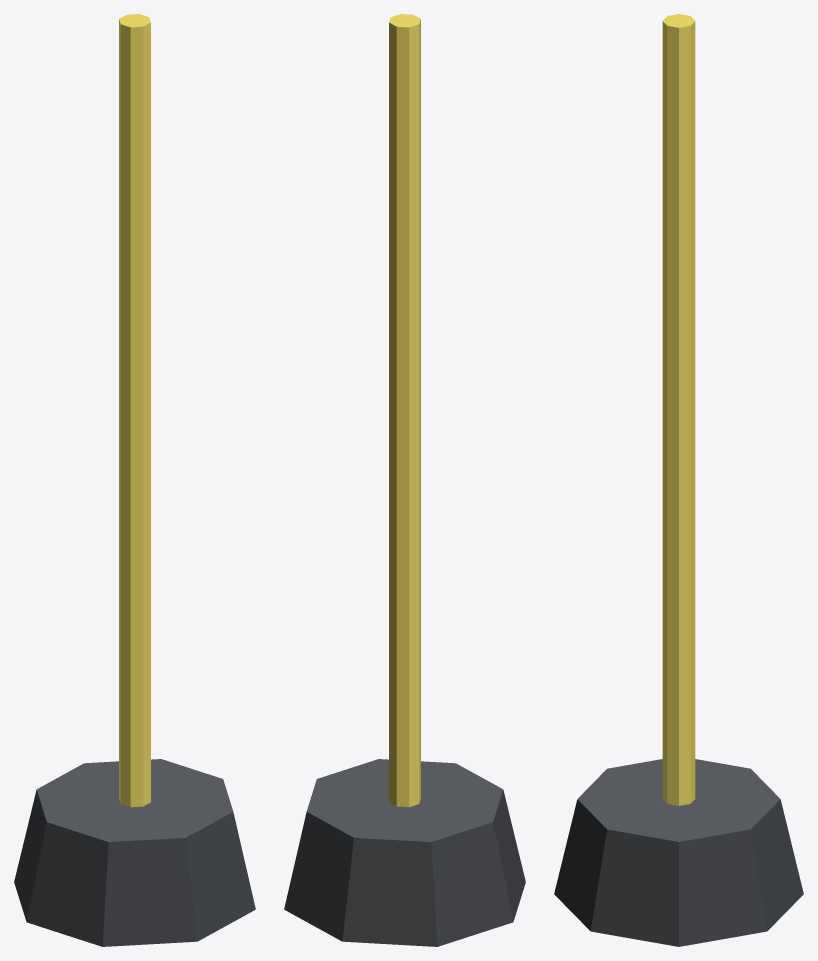
The model's file is FlagPole.obj.
3 views of the same model, side by side, from view 1: azimuth 30°, elevation 25°; view 2: azimuth 150°, elevation 25°; view 3: azimuth 270°, elevation 25° (orthographic).
Visible parts, largest first — view 1: FlagPole; view 2: FlagPole; view 3: FlagPole.
Boxes of the visible parts, box(x1,y1,x2,y2) form: FlagPole: box(14, 14, 255, 946); FlagPole: box(284, 14, 525, 946); FlagPole: box(554, 14, 803, 946).
Bounding box in the file's own units: 0.6699 × 2.62 × 0.6699.
